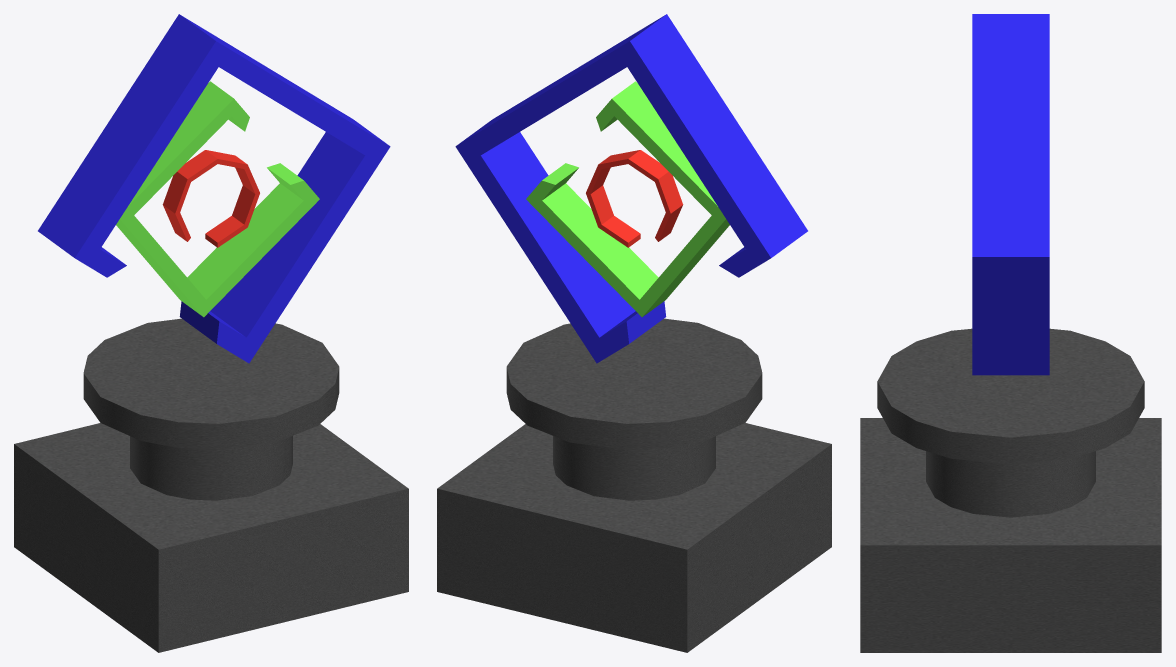
File: shapesPillar.fbx
3 renders of one model, left to right at view 1: azimuth 30°, elevation 25°; view 2: azimuth 150°, elevation 25°; view 3: azimuth 270°, elevation 25°, orthographic. The views are drawn at different scales.
Parts seen in each view (by area): view 1: Pillar, Shapes; view 2: Pillar, Shapes; view 3: Pillar, Shapes.
Boxes of the visible parts, box(x1,y1,x2,y2) form: Pillar: box(14, 318, 408, 652); Shapes: box(38, 14, 390, 363); Pillar: box(437, 318, 831, 652); Shapes: box(455, 14, 807, 363); Pillar: box(860, 328, 1161, 652); Shapes: box(972, 14, 1049, 375).
Size of the model in its own units: 253 by 417 by 200.
